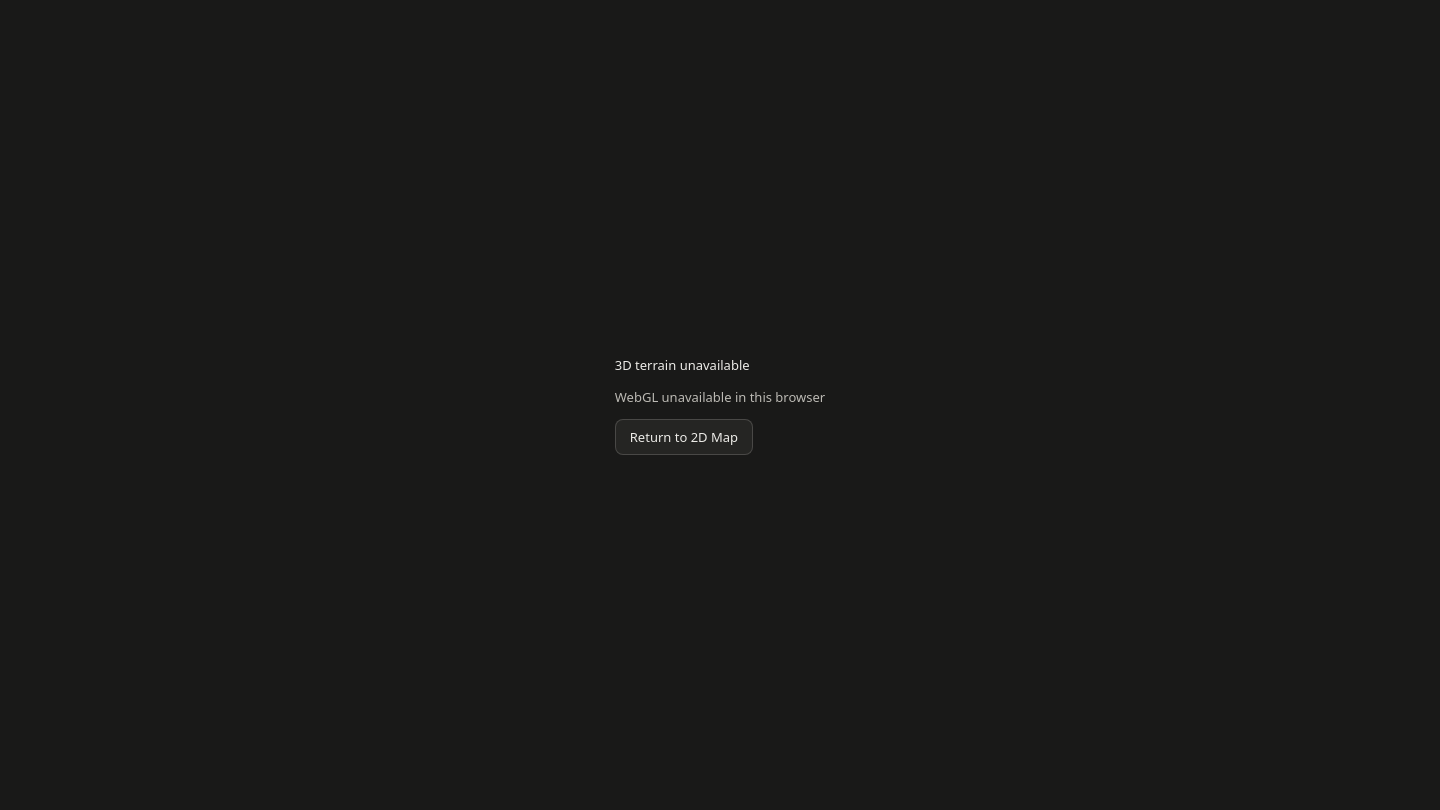
Test: shared 2D/3D controls › contains renderer initialization errors and provides a 2D return action; resources are disposed on unmount
The image size is (1440, 810).
Expected: the message shows "WebGL unavailable", [615, 388, 825, 406]
Click the button "Return to 2D Map".
click(684, 437)  # box [615, 419, 753, 455]
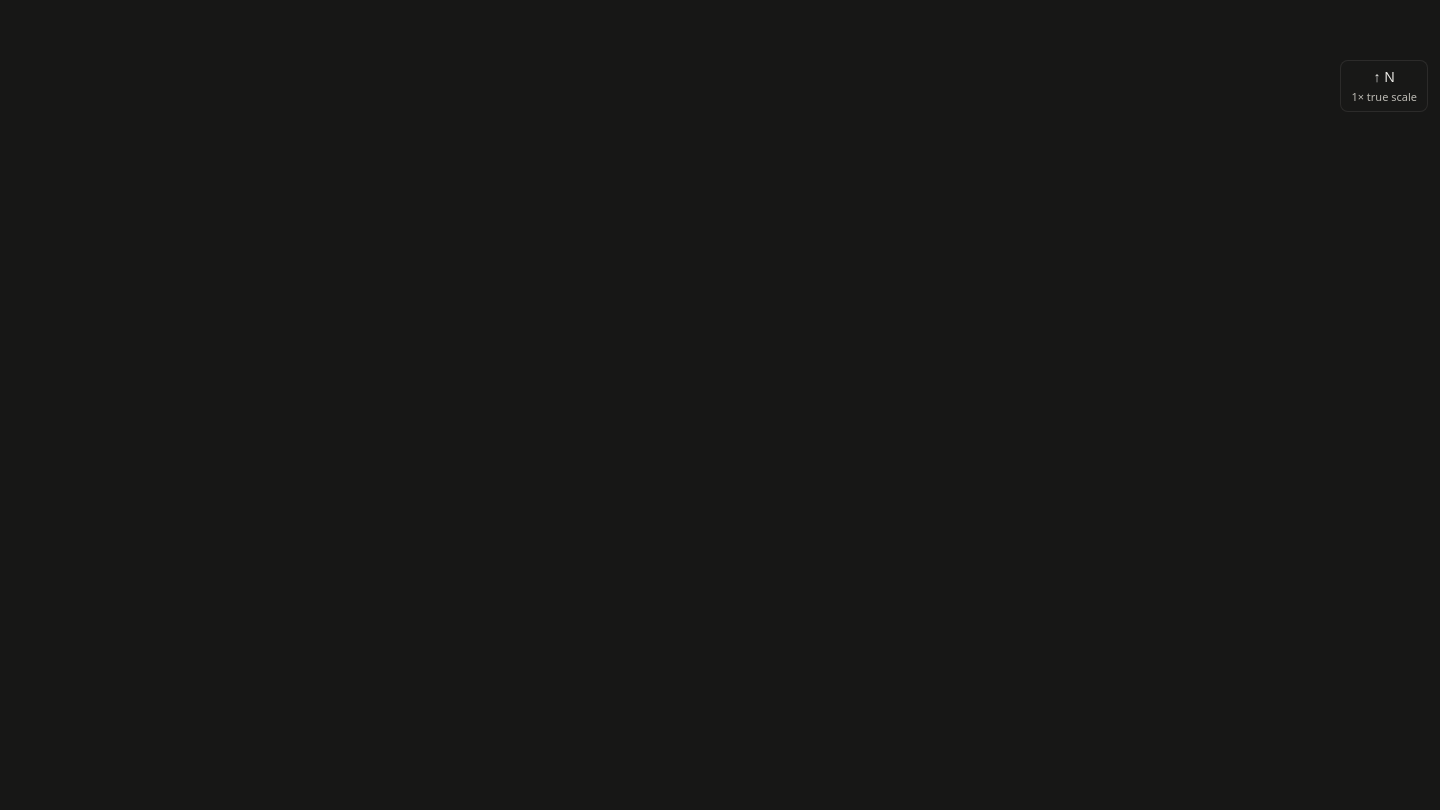
Result: the message "3D terrain unavailable WebGL unavailable in this browser Return to 2D Map" is gone
